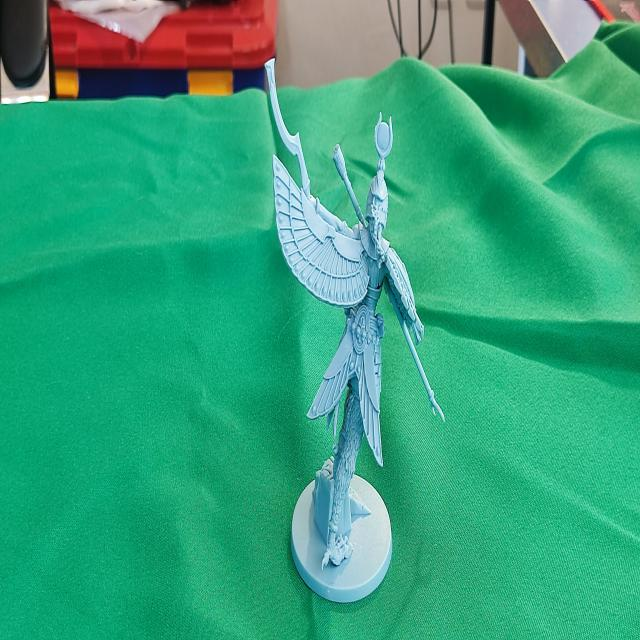isis: (250, 39, 450, 622)
